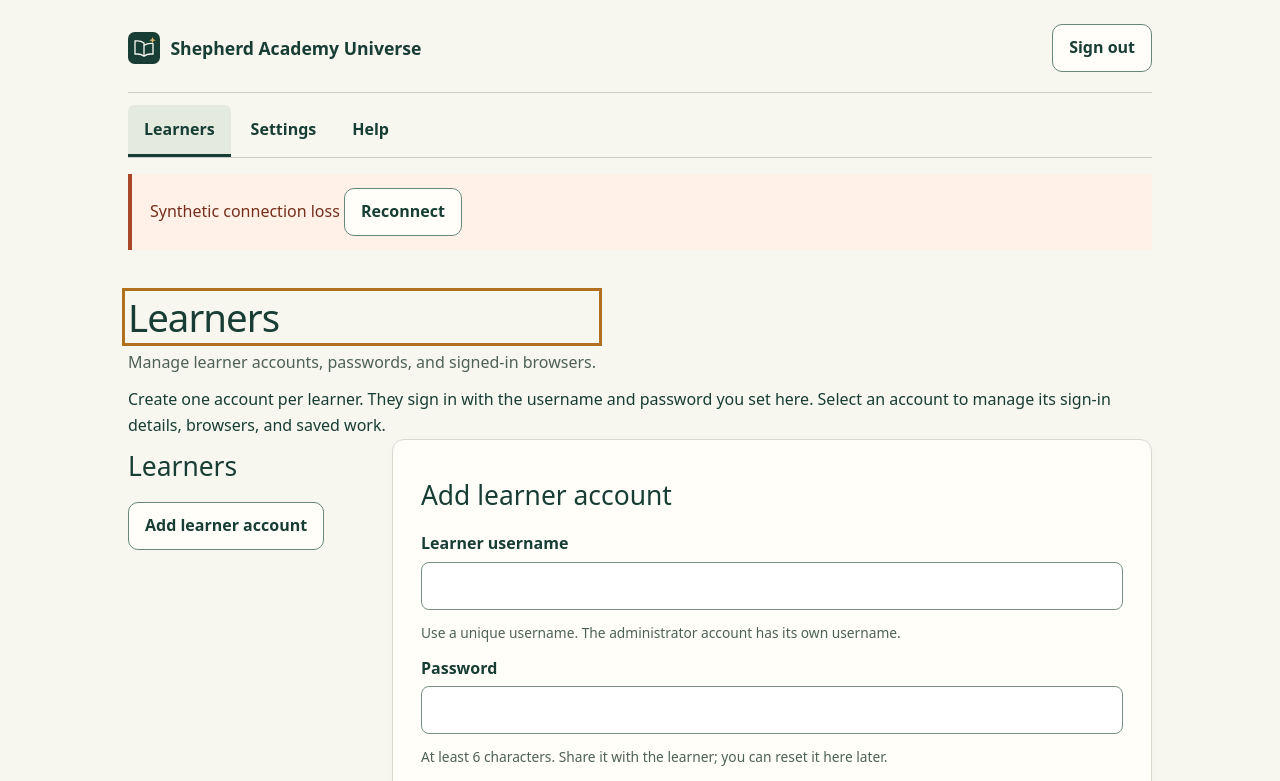
it: retries a failed learner list when the adult reconnects
Expected: the message "Synthetic connection loss Reconnect" is shown, [128,174,1152,250]
Click the button "Reconnect" at (403, 212), box [344,188,462,236]
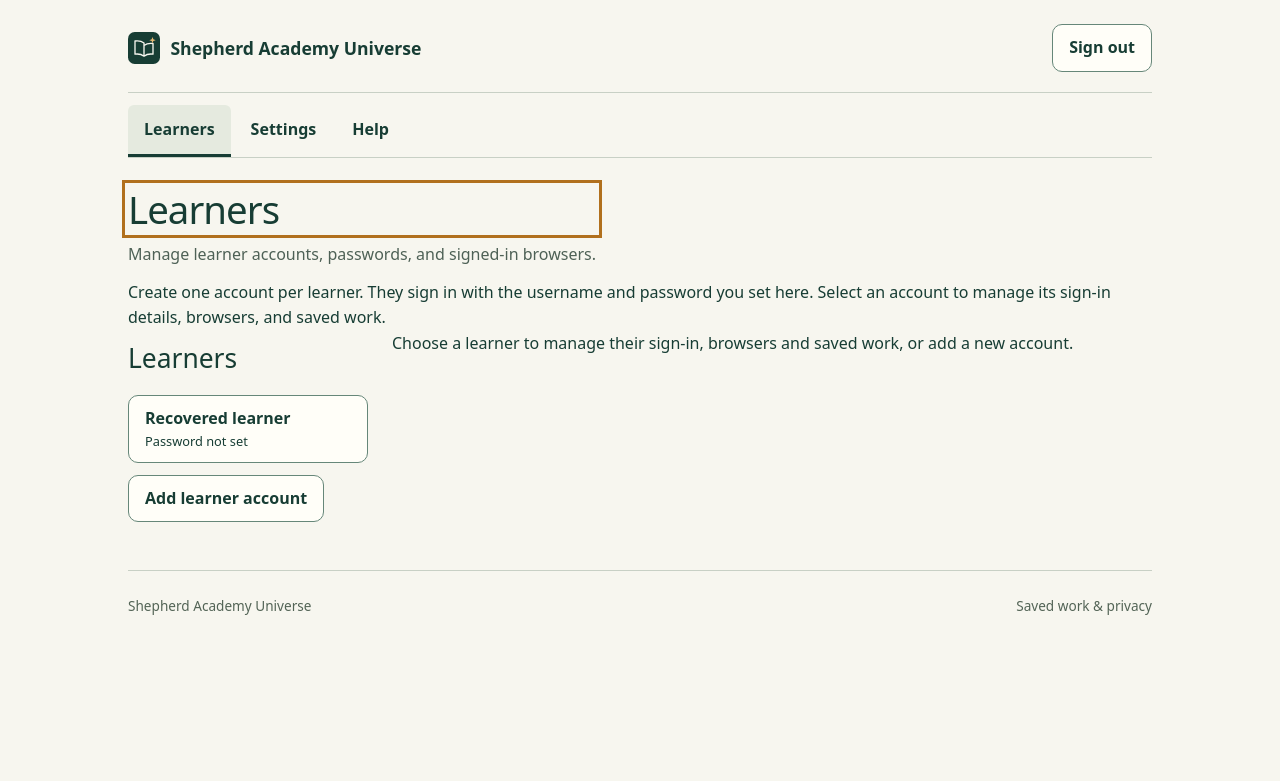
Expected: the button "Recovered learner Password not set" is shown, [128,395,368,463]
Expected: the message "Synthetic connection loss Reconnect" is gone
